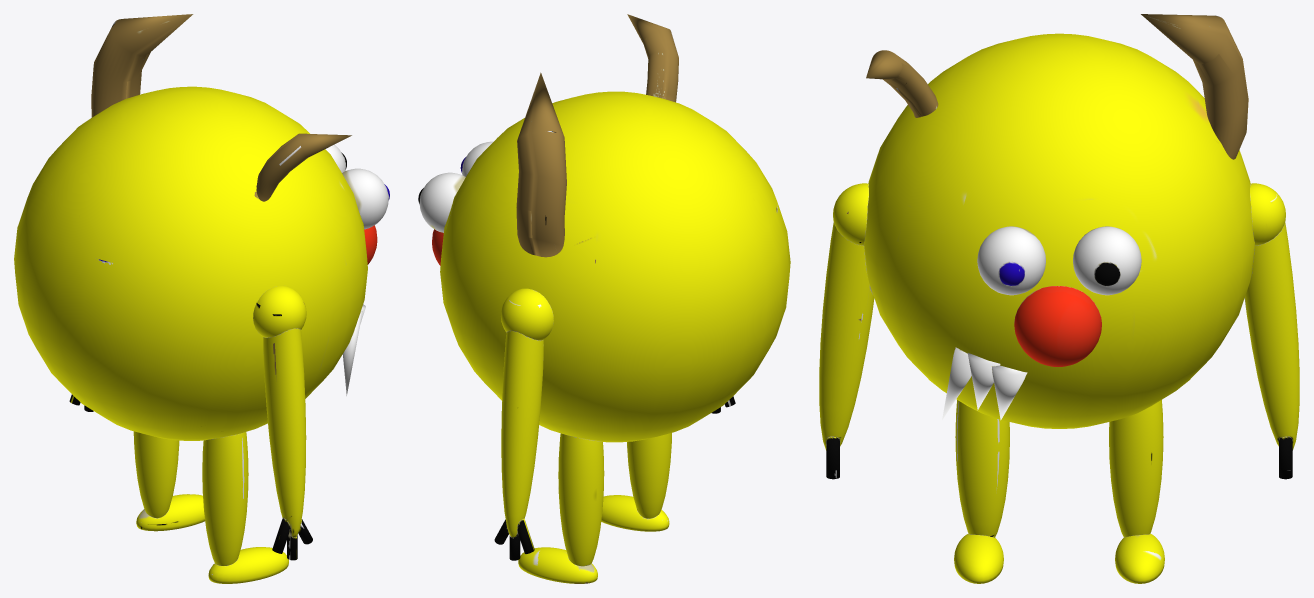
File: RoundMonster.fbx
3 views of the same model, side by side, from view 1: azimuth 30°, elevation 25°; view 2: azimuth 150°, elevation 25°; view 3: azimuth 270°, elevation 25° (orthographic). The views are drawn at different scales.
Visible parts, largest first — view 1: Cone; view 2: Cone; view 3: Cone.
Part boxes in pixels (x1,y1,x2,y2): Cone: (14,14,389,583); Cone: (418,14,790,583); Cone: (819,14,1299,583).
Bounding box in the file's own units: 218 × 311 × 243.
